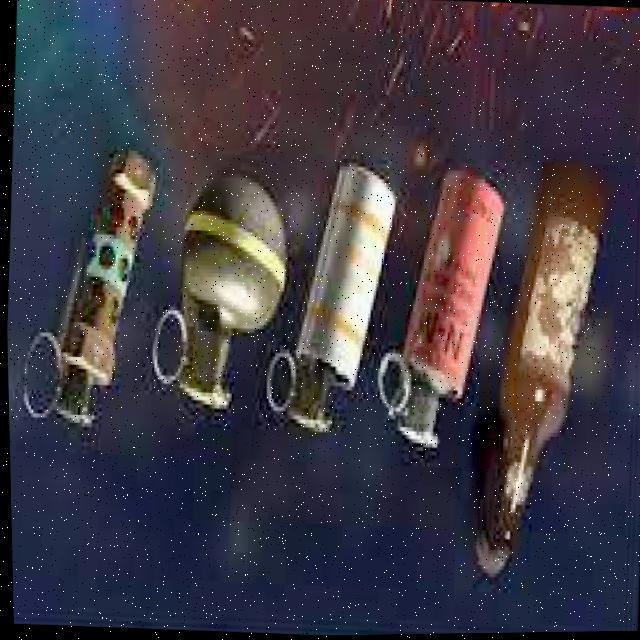grenade: (11, 129, 165, 436), (366, 162, 513, 456), (255, 153, 402, 439), (141, 163, 296, 416)
